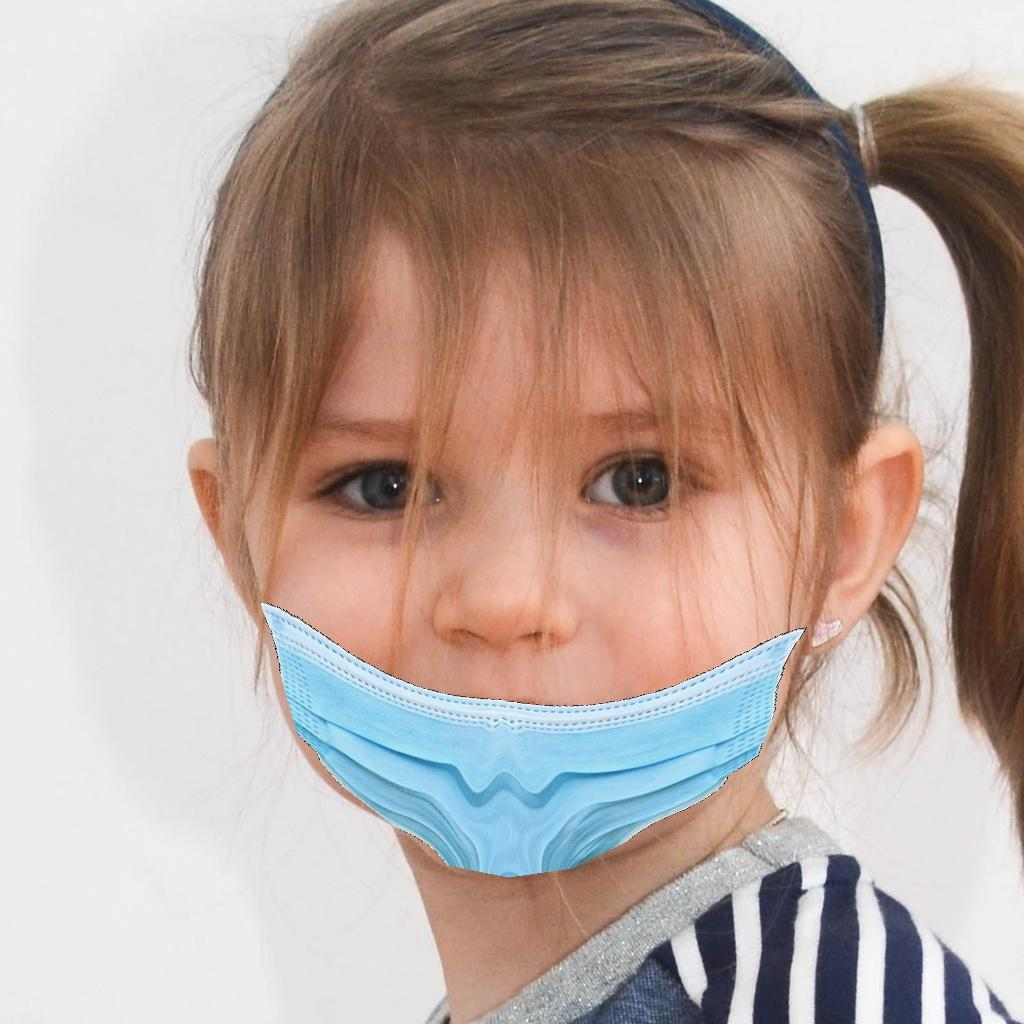Máscara Incorreta: (229, 144, 864, 880)
